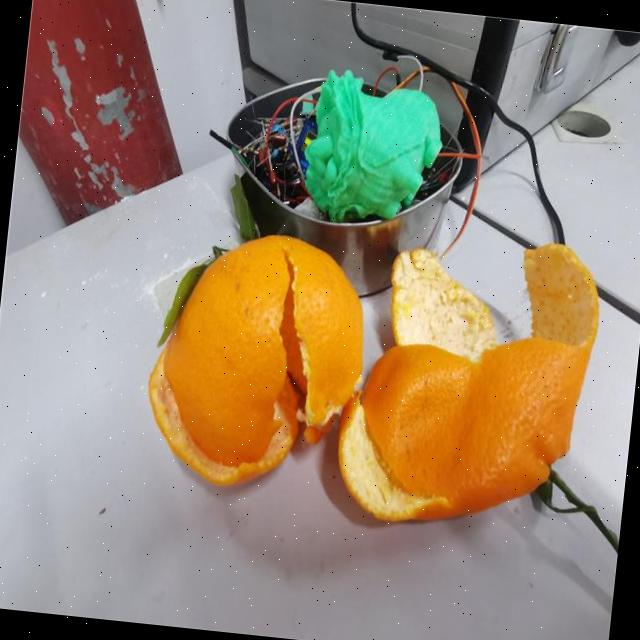orange-peel: (328, 220, 606, 540), (138, 220, 374, 499)
